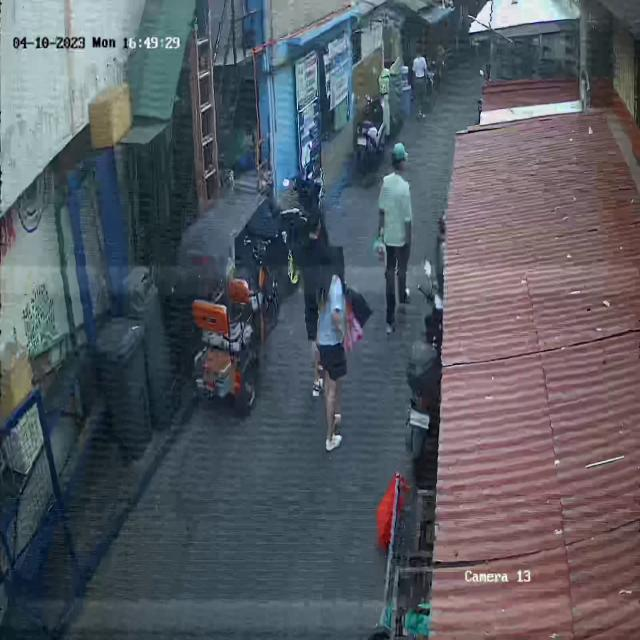human: (317, 246, 374, 451), (374, 144, 412, 336)
trash: (342, 277, 371, 353), (371, 235, 389, 268)
